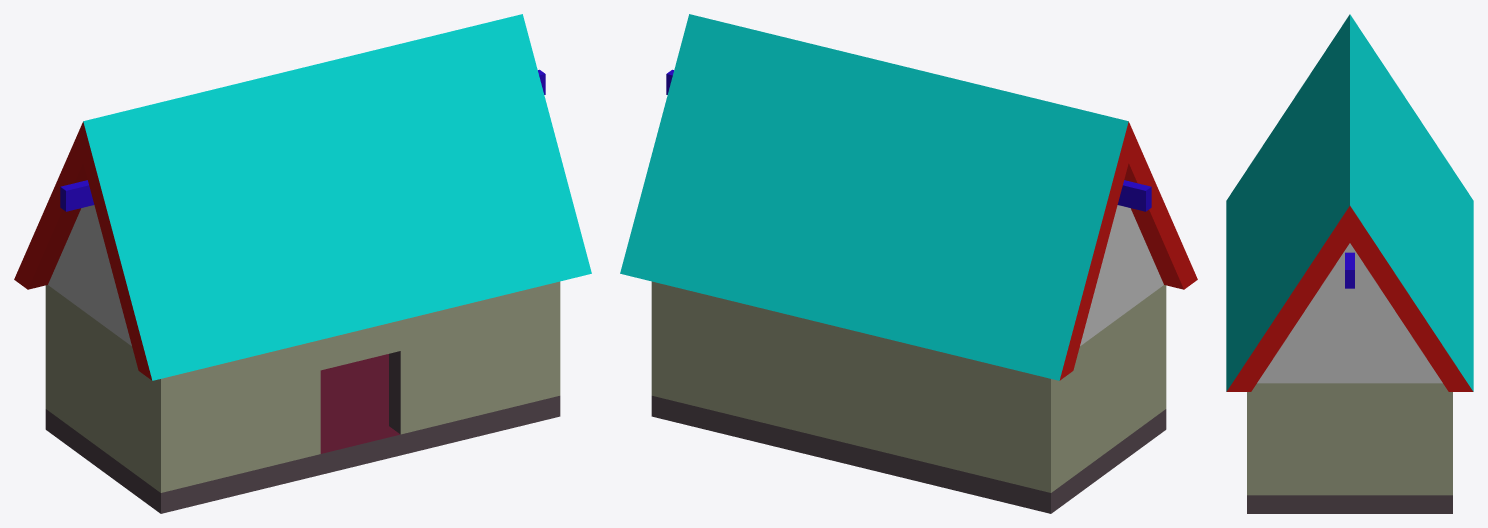
The model's file is rothenburg_template.dae.
The picture shows the model from 3 angles, left to right: view 1: azimuth 30°, elevation 25°; view 2: azimuth 150°, elevation 25°; view 3: azimuth 270°, elevation 25°; orthographic projection. The views are drawn at different scales.
Parts seen in each view (by area): view 1: Rothenburg_Roof, Rothenburg_Upper, Rothenburg_Lower, Rothenburg_Foundation; view 2: Rothenburg_Roof, Rothenburg_Upper, Rothenburg_Lower, Rothenburg_Foundation; view 3: Rothenburg_Roof, Rothenburg_Upper, Rothenburg_Lower, Rothenburg_Foundation.
Boxes of the visible parts, x1=… form: Rothenburg_Roof: x1=14, y1=14, x2=591, y2=380; Rothenburg_Upper: x1=45, y1=281, x2=560, y2=450; Rothenburg_Lower: x1=45, y1=354, x2=560, y2=492; Rothenburg_Foundation: x1=45, y1=354, x2=560, y2=513; Rothenburg_Roof: x1=620, y1=14, x2=1197, y2=380; Rothenburg_Upper: x1=651, y1=281, x2=1166, y2=450; Rothenburg_Lower: x1=651, y1=354, x2=1166, y2=492; Rothenburg_Foundation: x1=651, y1=396, x2=1166, y2=513; Rothenburg_Roof: x1=1226, y1=14, x2=1473, y2=391; Rothenburg_Upper: x1=1247, y1=383, x2=1452, y2=457; Rothenburg_Lower: x1=1247, y1=458, x2=1452, y2=495; Rothenburg_Foundation: x1=1247, y1=495, x2=1452, y2=513.
Bounding box in the file's own units: 12 × 6 × 8.5.
